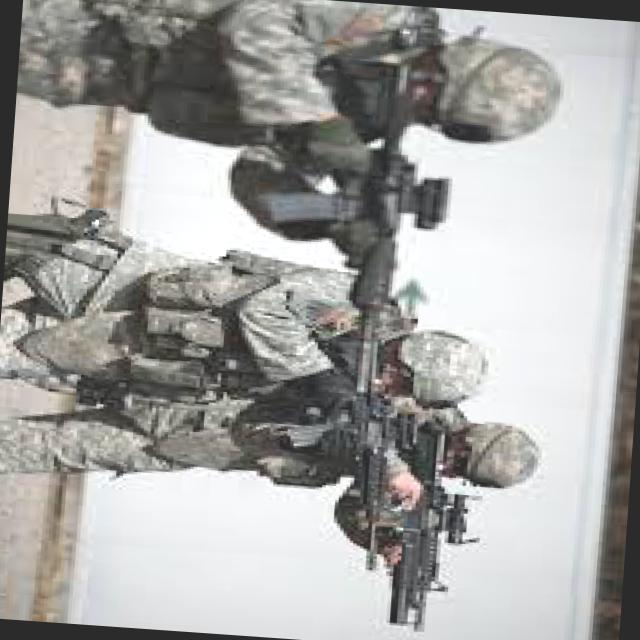long weapon: (263, 140, 449, 400), (285, 401, 415, 585), (359, 474, 485, 639)
